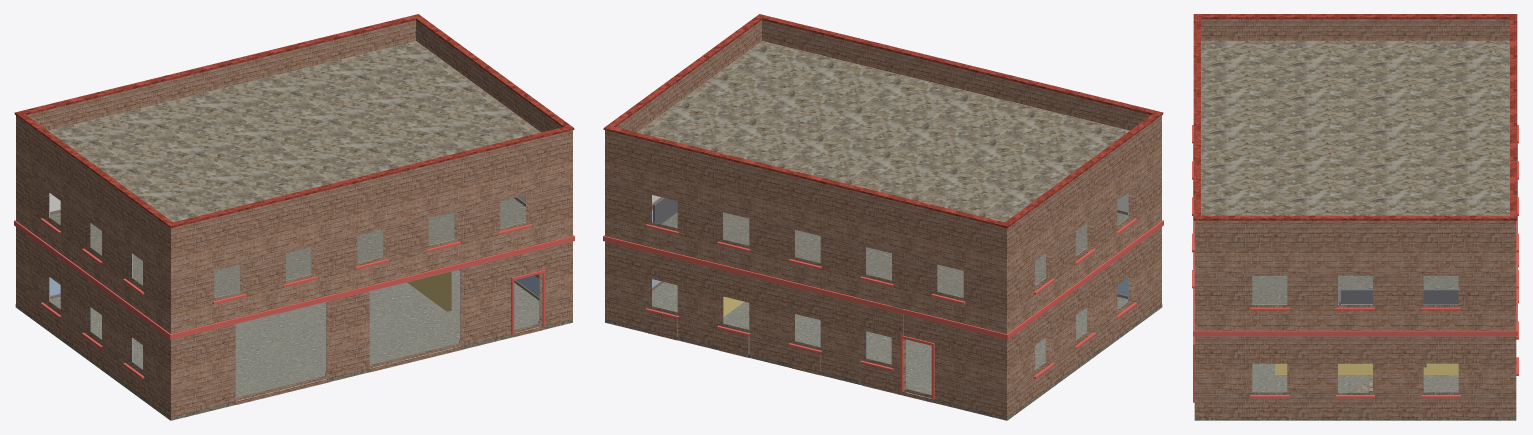
Rendered from crash-station.reveal-v1.lod0.glb.
3 views of the same model, side by side, from view 1: azimuth 30°, elevation 25°; view 2: azimuth 150°, elevation 25°; view 3: azimuth 270°, elevation 25° (orthographic). The views are drawn at different scales.
Parts seen in each view (by area): view 1: crash-station; view 2: crash-station; view 3: crash-station.
Boxes of the visible parts, x1,y1,x2,y2 form: crash-station: (14,14,574,420); crash-station: (603,14,1163,420); crash-station: (1192,14,1518,420).
Bounding box in the file's own units: 18.2 × 8.35 × 12.2.
Materials: 4 (3 with a texture image).
